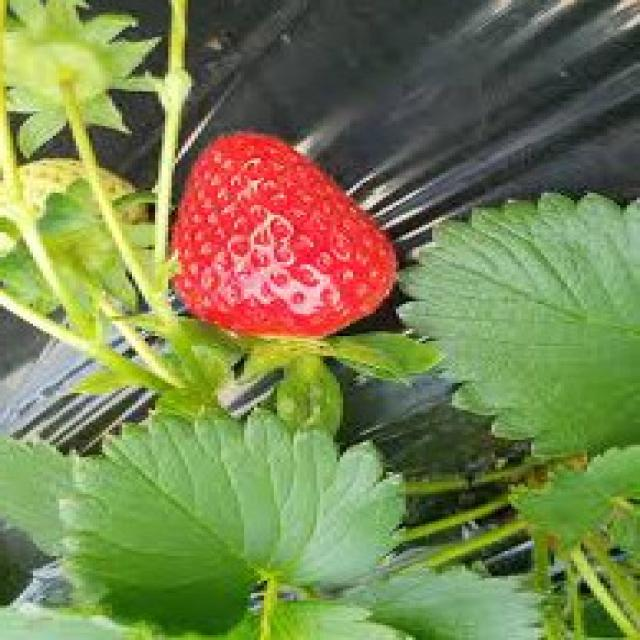mature: (178, 119, 426, 348)
